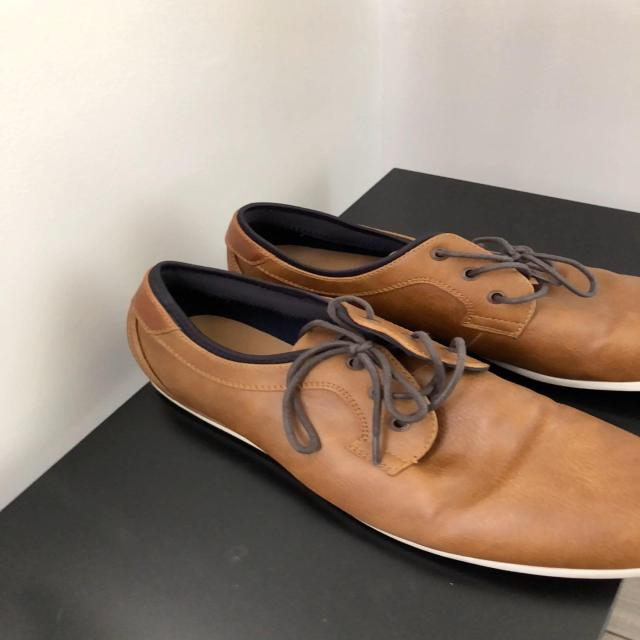shoe: (131, 264, 639, 572), (225, 202, 640, 394)
